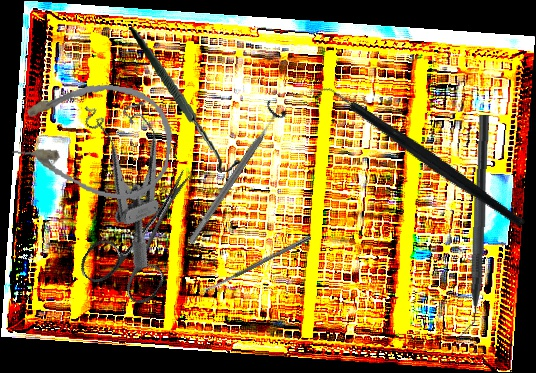Cannula: (7, 71, 179, 206)
Chopper: (308, 31, 526, 282), (456, 114, 490, 339)
Fixation Ring: (179, 99, 290, 250)
Hook Surgical: (128, 17, 242, 181)
Iris Scissors: (75, 149, 220, 314)
Speculum: (69, 84, 204, 272)
Surgical Spoon: (200, 234, 312, 295)
